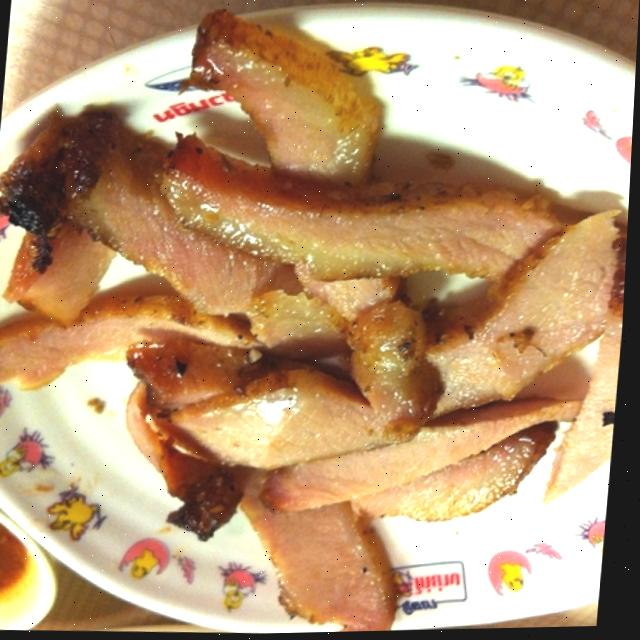猪肉菜式: (0, 14, 639, 640)
